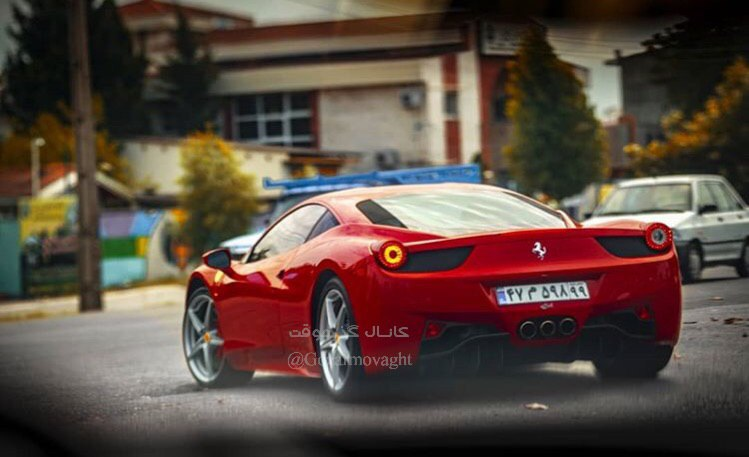car: (492, 275, 592, 305)
